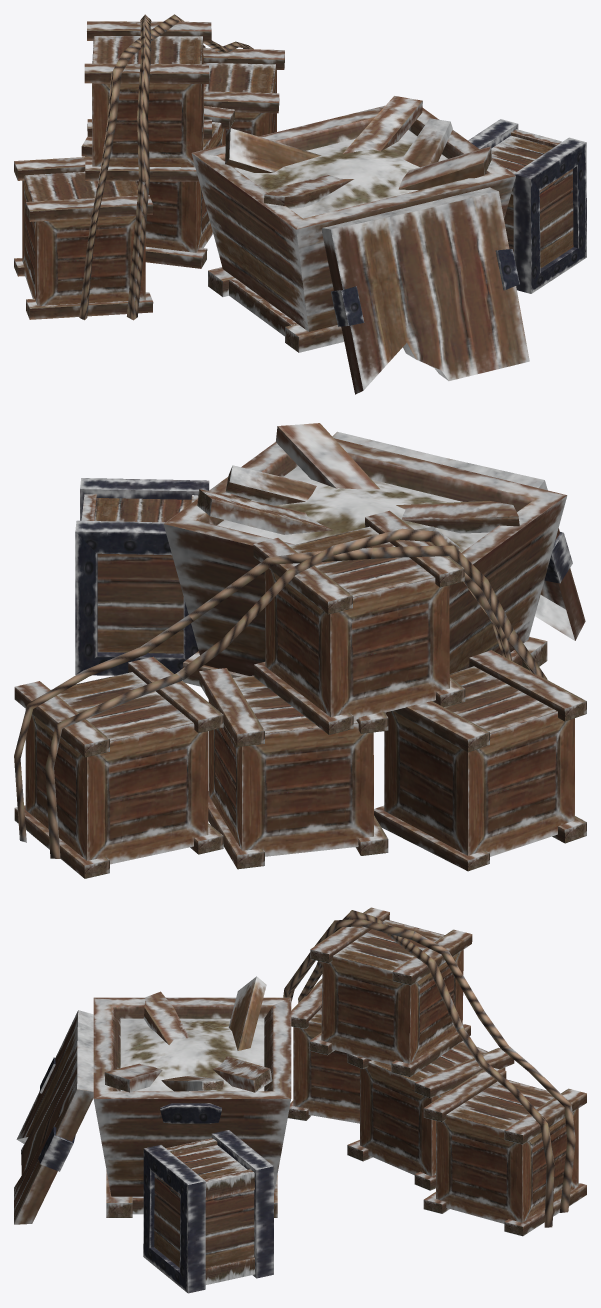
Rendered from SV_AFT_snow_xiangzi2_0.FBX.
3 views of the same model, one above another, from view 1: azimuth 30°, elevation 25°; view 2: azimuth 150°, elevation 25°; view 3: azimuth 270°, elevation 25° (orthographic). The views are drawn at different scales.
Parts seen in each view (by area): view 1: SV_AFT_snow_xiangzi2_0; view 2: SV_AFT_snow_xiangzi2_0; view 3: SV_AFT_snow_xiangzi2_0.
Part boxes in pixels (x1=…): SV_AFT_snow_xiangzi2_0: x1=14, y1=14, x2=586, y2=394; SV_AFT_snow_xiangzi2_0: x1=14, y1=423, x2=586, y2=878; SV_AFT_snow_xiangzi2_0: x1=14, y1=907, x2=586, y2=1293.
Size of the model in its own units: 3.24 by 1.46 by 3.55.
